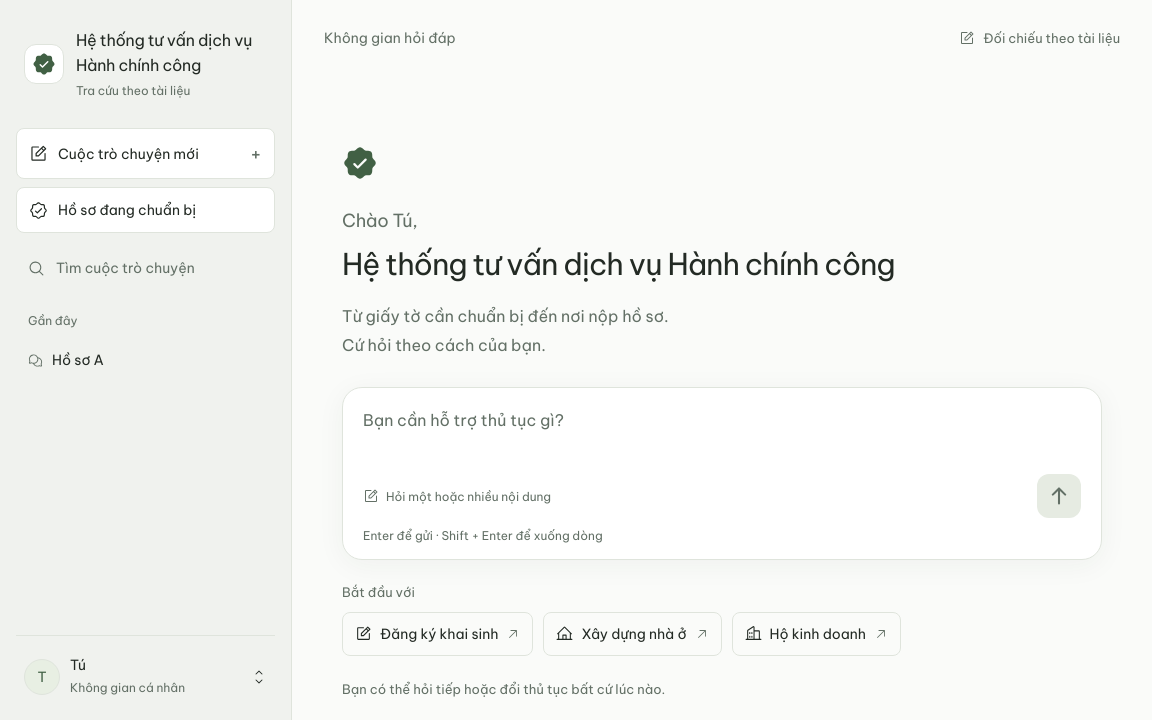
G6 account workspace › renders a private reviewed D2 source without inventing a public link
What coordinates should you click on to do the following:
click the button "Hồ sơ A"
I would click on:
 (124, 360)
Its box is 16,338 -> 231,382.
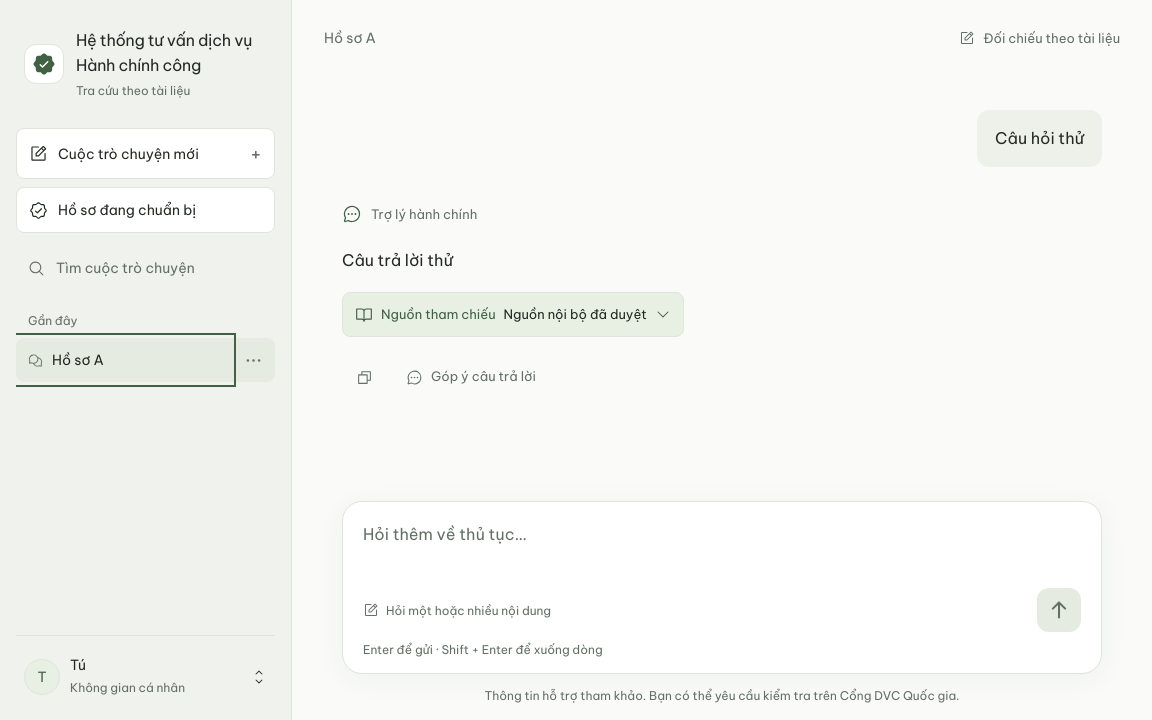
What coordinates should you click on to do the following:
click the text "Nguồn tham chiếu"
I would click on:
 (438, 314)
Its box is 381,303 -> 496,326.
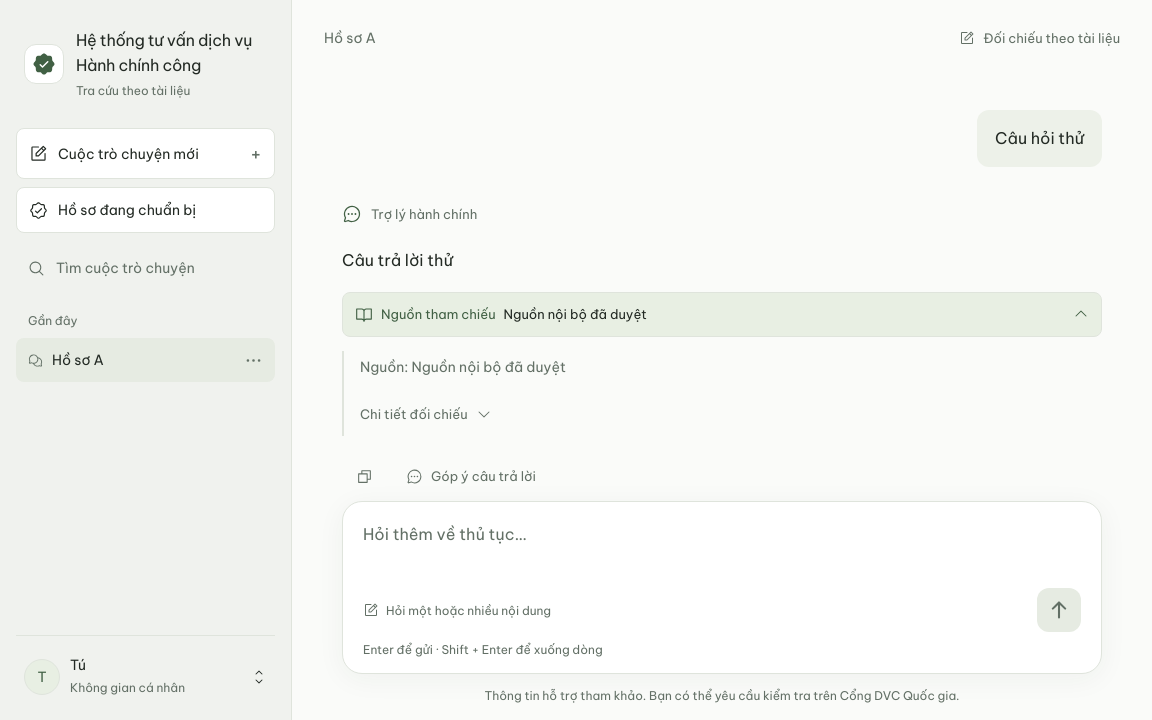
Expected: the text "Nguồn: Nguồn nội bộ đã duyệt" is shown, 360,358 -> 566,376
